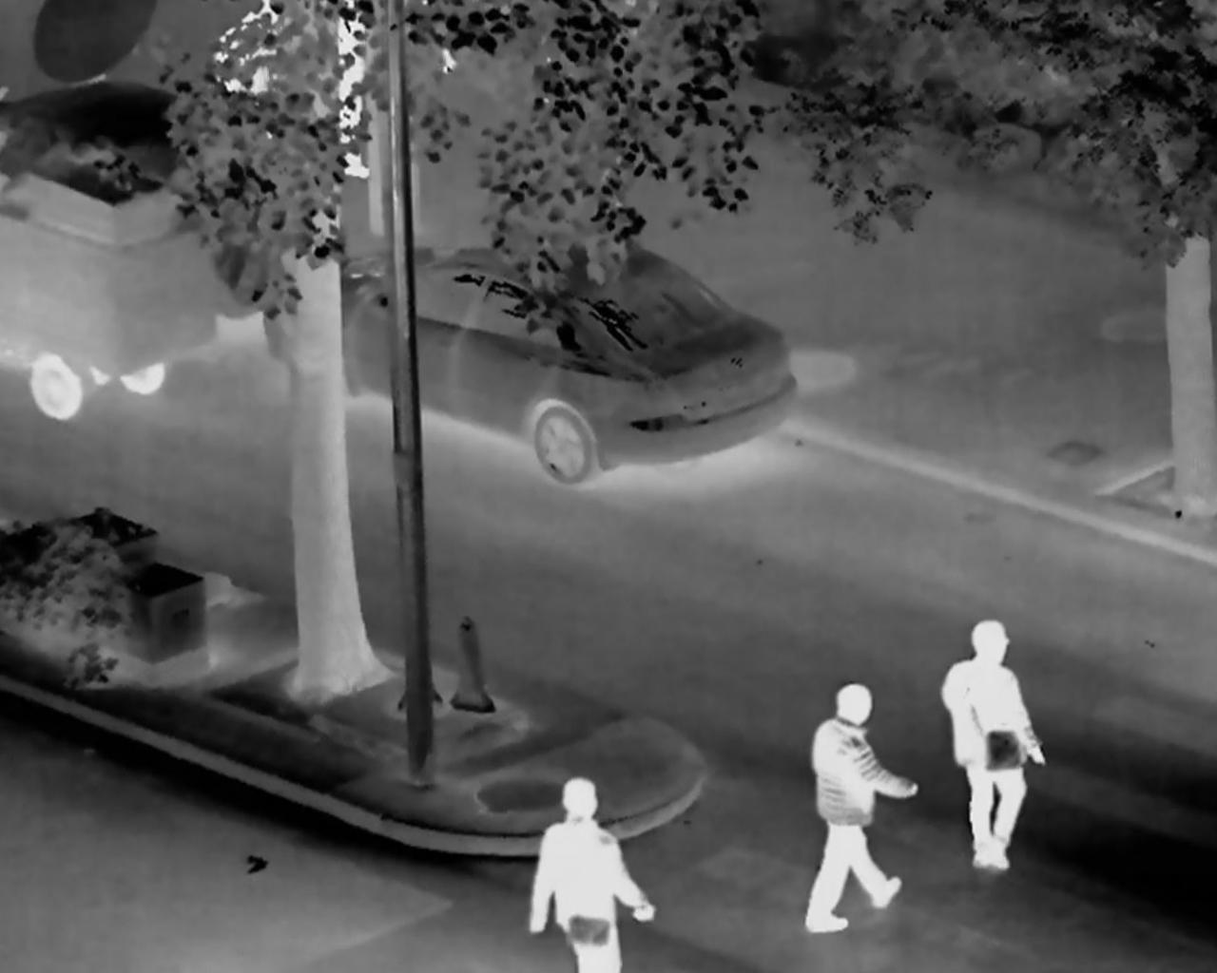person: (802, 680, 919, 931), (939, 620, 1047, 873), (529, 777, 656, 972), (338, 5, 375, 180)
